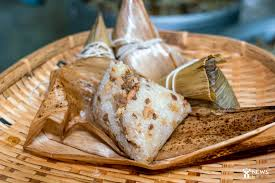zongzi: (92, 61, 191, 163), (112, 0, 184, 80)
